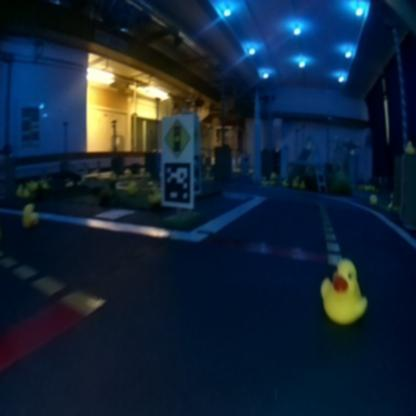duckie: (314, 242, 378, 340), (11, 194, 51, 235), (0, 210, 9, 247)
